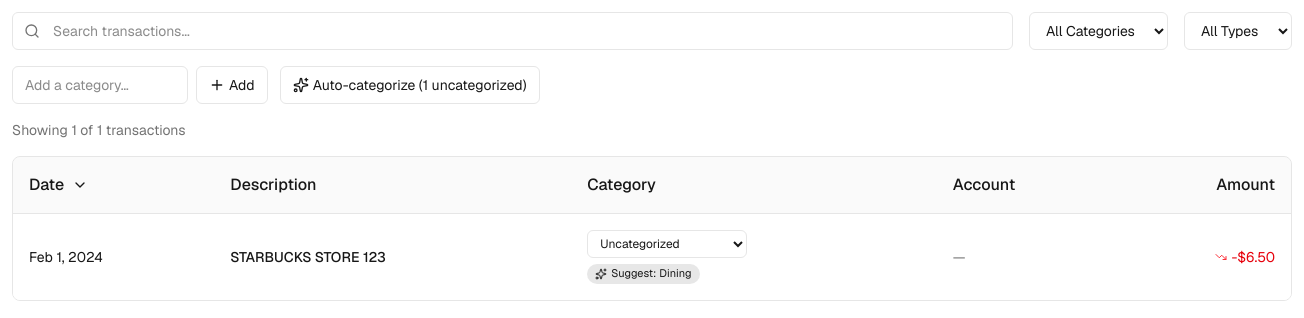
TransactionTable › categorization › suggests a category for an uncategorized transaction and applies it on accept
The image size is (1304, 318).
Expected: the dropdown named "Category for STARBUCKS STORE 123" shows "Uncategorized", x1=587 y1=230 x2=747 y2=258
Click the button "Suggest: Dining" at (643, 274), box x1=587 y1=264 x2=700 y2=284
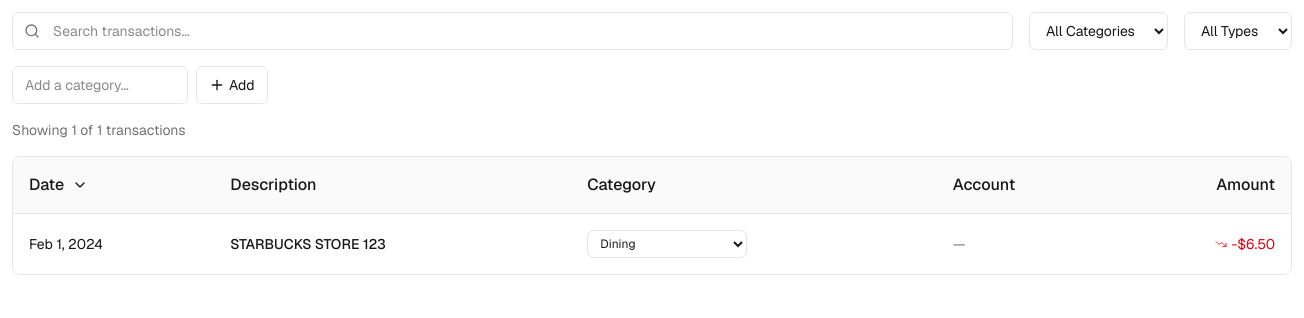
Result: the dropdown named "Category for STARBUCKS STORE 123" shows "Dining" at x1=587 y1=230 x2=747 y2=258
